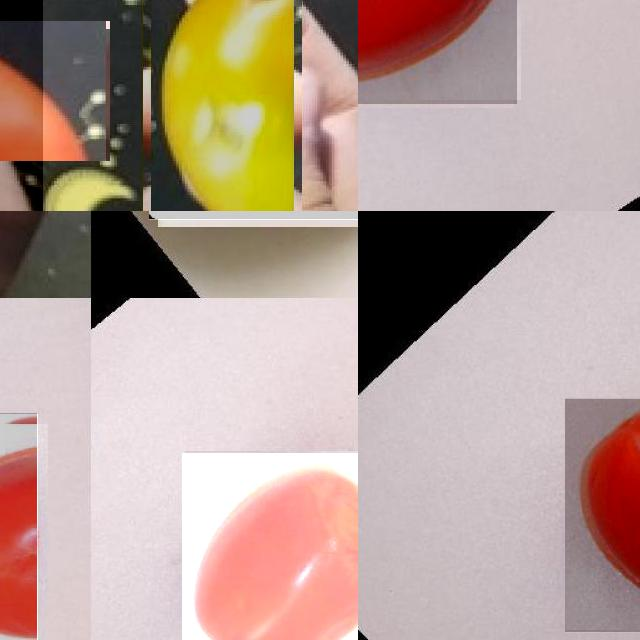1: (182, 453, 358, 640), (143, 0, 294, 211), (0, 413, 37, 640)
Fresh Tomato: (564, 398, 640, 632), (358, 0, 517, 104)
